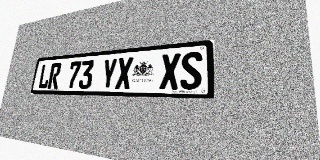3: (78, 60, 94, 89)
7: (66, 61, 82, 89)
L: (37, 63, 51, 89)
R: (47, 63, 62, 89)
S: (180, 51, 202, 90)
X: (159, 53, 180, 90), (115, 57, 133, 89)
Y: (100, 58, 118, 89)
